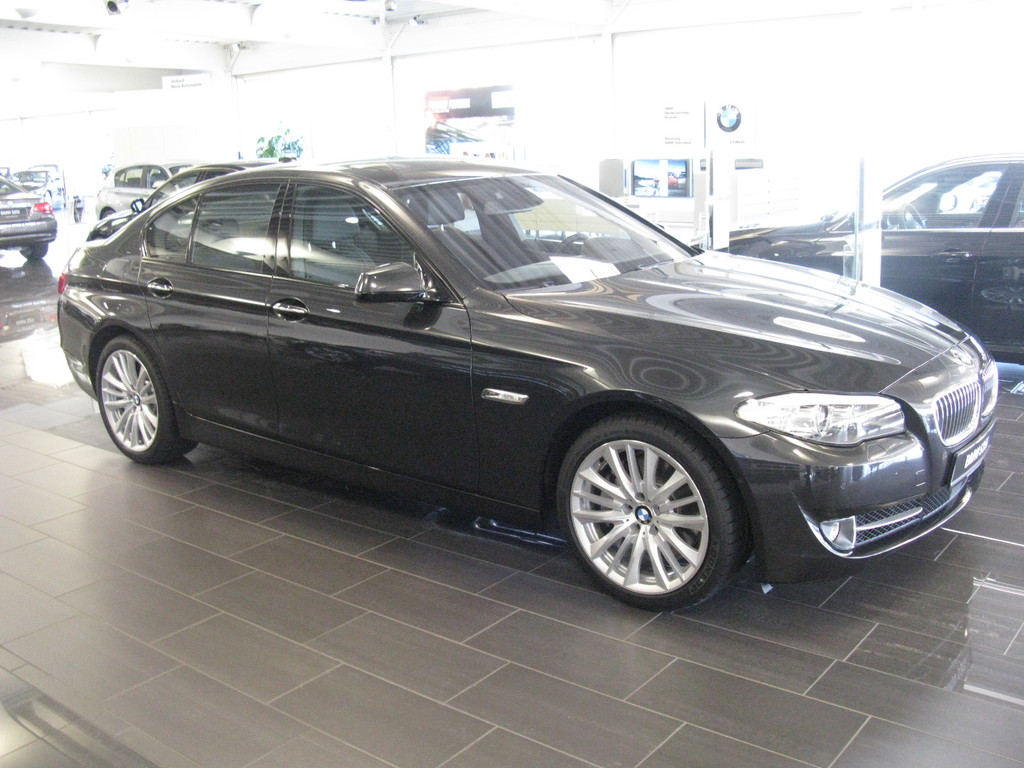Car: (53, 154, 998, 616), (686, 152, 1023, 367), (94, 159, 191, 220), (0, 178, 56, 259)
